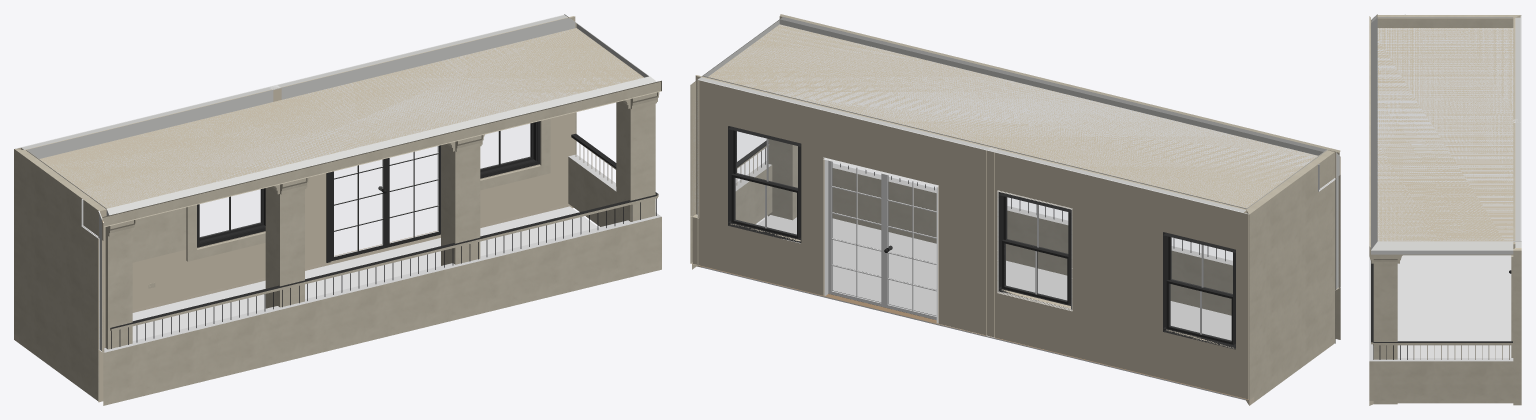
Rendered from front-balcony-a42434570c85.glb.
3 views of the same model, side by side, from view 1: azimuth 30°, elevation 25°; view 2: azimuth 150°, elevation 25°; view 3: azimuth 270°, elevation 25° (orthographic). The views are drawn at different scales.
Parts seen in each view (by area): view 1: front-balcony-0ac23dde8d2f7c54, front-balcony-b39baa29700ae605, front-balcony-f6a7cfeba332478b, front-balcony-62353aa10fc57f23, front-balcony-b0ade14315e4f1c3, front-balcony-0987656e6ddb83c1, front-balcony-dbd60ee5c3733ed6, front-balcony-24022e0f0167e9d7, front-balcony-f0f007964d256d2c, front-balcony-771be2dfa886178e, front-balcony-41597b955207c1bc, front-balcony-489e9ad801b4b62e (+7 smaller); view 2: front-balcony-b0ade14315e4f1c3, front-balcony-0ac23dde8d2f7c54, front-balcony-f6a7cfeba332478b, front-balcony-62353aa10fc57f23, front-balcony-0987656e6ddb83c1, front-balcony-b39baa29700ae605, front-balcony-dbd60ee5c3733ed6, front-balcony-e1735639a83d20d7, front-balcony-60f0db96f832035a, front-balcony-b5cb73c07919def8, front-balcony-41597b955207c1bc, front-balcony-dc9de07e6ba3b47a (+3 smaller); view 3: front-balcony-0ac23dde8d2f7c54, front-balcony-f6a7cfeba332478b, front-balcony-dbd60ee5c3733ed6, front-balcony-dc9de07e6ba3b47a, front-balcony-41597b955207c1bc, front-balcony-b0ade14315e4f1c3, front-balcony-62353aa10fc57f23, front-balcony-adb6f49a6d2cbec3, front-balcony-8ce6cdf114d83750, front-balcony-24022e0f0167e9d7, front-balcony-16d9002bc6318568, front-balcony-19165bb3a07bed8e (+3 smaller).
Part boxes in pixels (x1,y1,x2,y2): front-balcony-0ac23dde8d2f7c54: (26, 18, 656, 215); front-balcony-b39baa29700ae605: (98, 216, 661, 405); front-balcony-f6a7cfeba332478b: (45, 29, 641, 207); front-balcony-62353aa10fc57f23: (14, 149, 106, 401); front-balcony-b0ade14315e4f1c3: (15, 15, 575, 309); front-balcony-0987656e6ddb83c1: (326, 145, 440, 262); front-balcony-dbd60ee5c3733ed6: (132, 206, 597, 340); front-balcony-24022e0f0167e9d7: (102, 80, 661, 227); front-balcony-f0f007964d256d2c: (265, 187, 304, 308); front-balcony-771be2dfa886178e: (441, 144, 480, 265); front-balcony-41597b955207c1bc: (616, 102, 655, 222); front-balcony-489e9ad801b4b62e: (105, 226, 132, 349); front-balcony-b0ade14315e4f1c3: (692, 75, 1248, 399); front-balcony-0ac23dde8d2f7c54: (702, 17, 1327, 209); front-balcony-f6a7cfeba332478b: (710, 24, 1317, 207); front-balcony-62353aa10fc57f23: (1246, 150, 1334, 405); front-balcony-0987656e6ddb83c1: (823, 158, 938, 323); front-balcony-b39baa29700ae605: (832, 163, 1340, 343); front-balcony-dbd60ee5c3733ed6: (702, 215, 1245, 400); front-balcony-e1735639a83d20d7: (728, 126, 801, 242); front-balcony-60f0db96f832035a: (1163, 232, 1235, 349); front-balcony-b5cb73c07919def8: (998, 192, 1071, 308); front-balcony-41597b955207c1bc: (767, 139, 797, 220); front-balcony-dc9de07e6ba3b47a: (735, 161, 772, 224); front-balcony-0ac23dde8d2f7c54: (1371, 17, 1513, 254); front-balcony-f6a7cfeba332478b: (1371, 28, 1513, 255); front-balcony-dbd60ee5c3733ed6: (1397, 255, 1513, 403); front-balcony-dc9de07e6ba3b47a: (1369, 358, 1513, 400); front-balcony-41597b955207c1bc: (1373, 264, 1397, 404); front-balcony-b0ade14315e4f1c3: (1513, 15, 1521, 400); front-balcony-62353aa10fc57f23: (1377, 15, 1521, 27); front-balcony-adb6f49a6d2cbec3: (1513, 249, 1521, 361); front-balcony-8ce6cdf114d83750: (1373, 341, 1512, 345); front-balcony-24022e0f0167e9d7: (1369, 16, 1370, 255); front-balcony-16d9002bc6318568: (1514, 361, 1521, 400); front-balcony-19165bb3a07bed8e: (1511, 255, 1513, 357).
Size of the model in its own units: 9.14 by 3 by 2.55.
21 materials, 6 textured.
